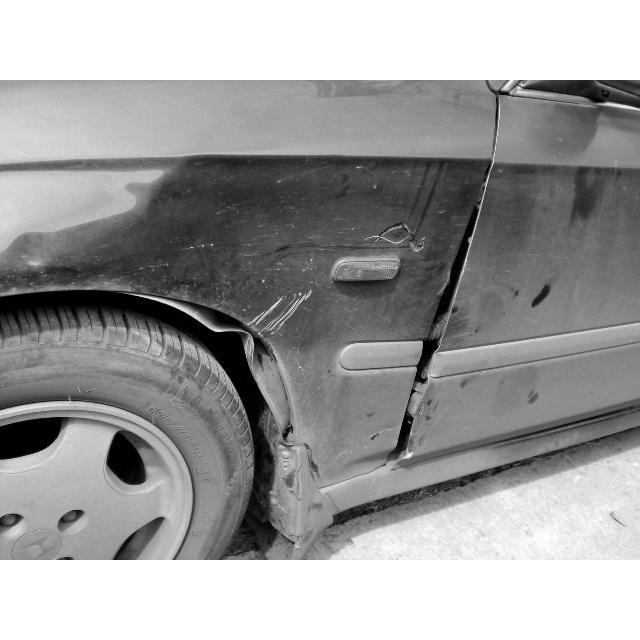fender-dent: (65, 106, 441, 467)
